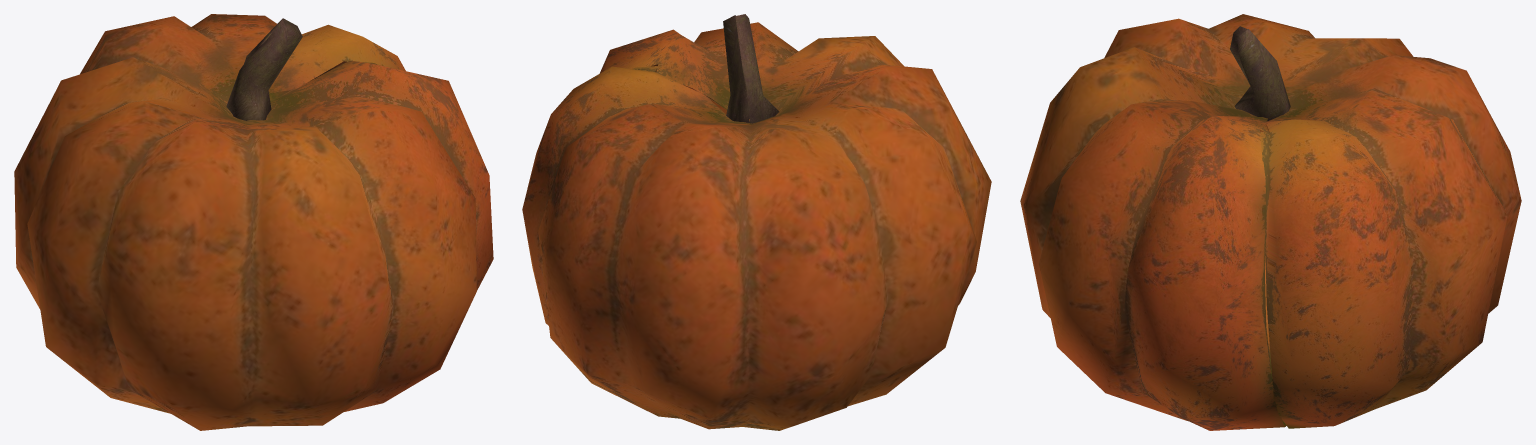
File: pumpkin-v1-transformed.glb
3 renders of one model, left to right at view 1: azimuth 30°, elevation 25°; view 2: azimuth 150°, elevation 25°; view 3: azimuth 270°, elevation 25°, orthographic. The views are drawn at different scales.
Visible parts, largest first — view 1: Group36326_Retopo, Group19074_Retopo; view 2: Group36326_Retopo, Group19074_Retopo; view 3: Group36326_Retopo, Group19074_Retopo.
Part boxes in pixels (x1,y1,x2,y2): Group36326_Retopo: (14,14,493,430); Group19074_Retopo: (226,18,302,120); Group36326_Retopo: (522,22,991,430); Group19074_Retopo: (723,14,779,123); Group36326_Retopo: (1020,14,1521,430); Group19074_Retopo: (1230,26,1290,121).
Size of the model in its own units: 41.21 by 34.86 by 41.98.
1 material, 1 textured.
